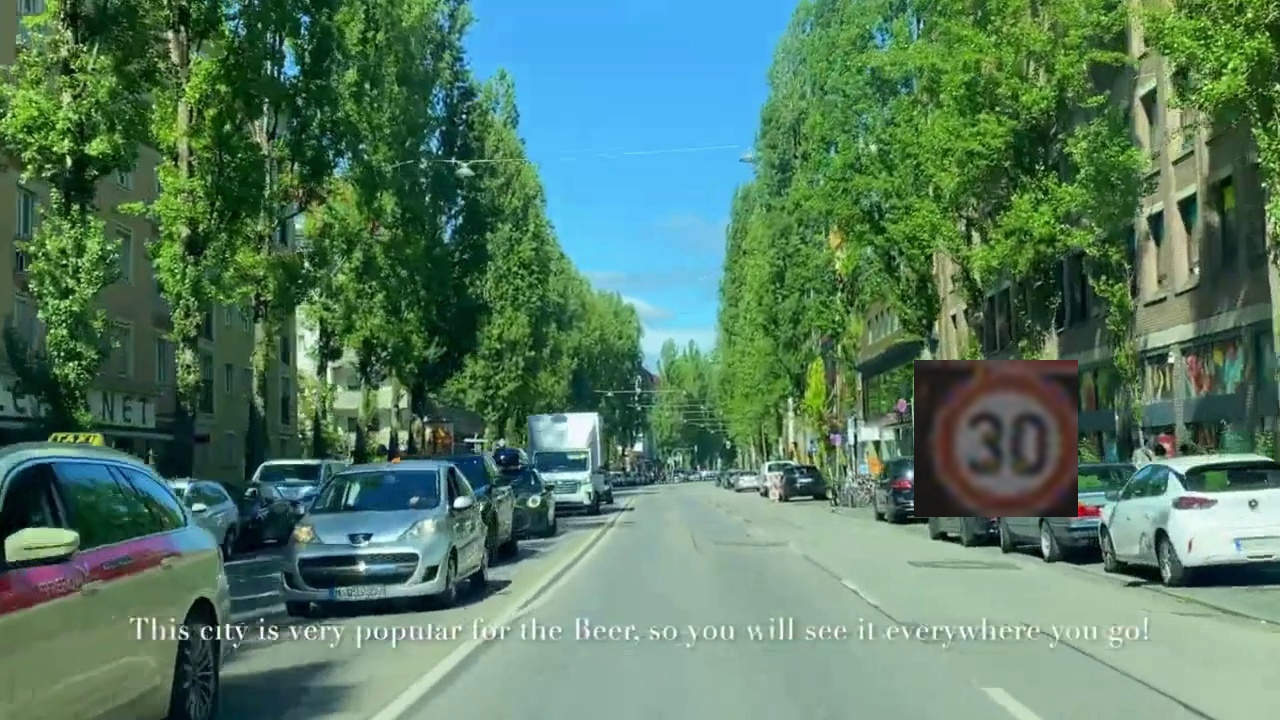Speed 30: (914, 360, 1078, 517)
